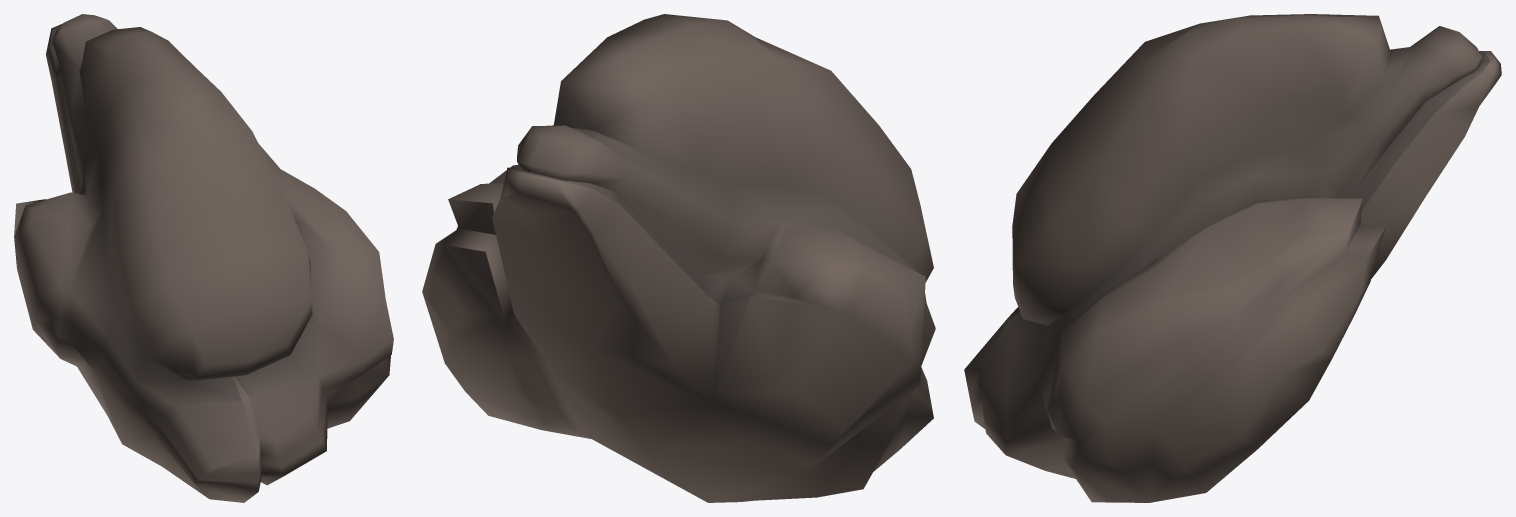
The model's file is SlantedRock.001.glb.
3 renders of one model, left to right at view 1: azimuth 30°, elevation 25°; view 2: azimuth 150°, elevation 25°; view 3: azimuth 270°, elevation 25°, orthographic. The views are drawn at different scales.
Parts seen in each view (by area): view 1: SlantedRock.001; view 2: SlantedRock.001; view 3: SlantedRock.001.
Boxes of the visible parts, box(x1,y1,x2,y2) form: SlantedRock.001: box(14, 14, 393, 502); SlantedRock.001: box(422, 14, 935, 502); SlantedRock.001: box(964, 14, 1501, 502).
Bounding box in the file's own units: 1195 × 1339 × 1442.
